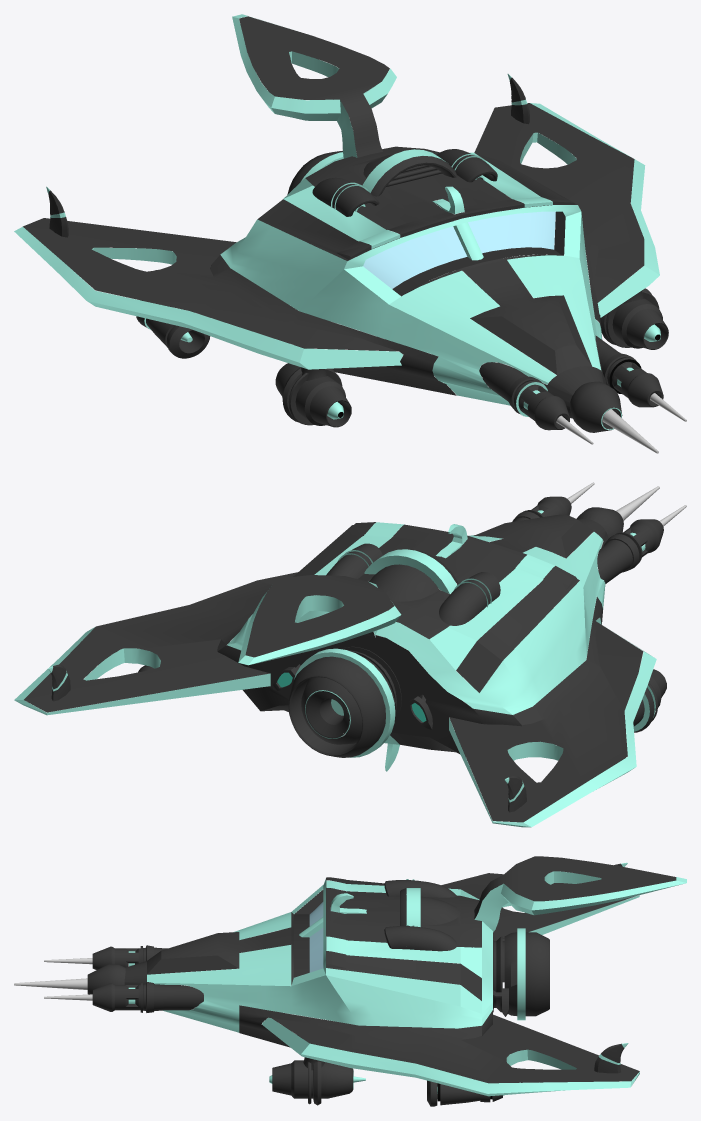
The model's file is rocket.gltf.
The picture shows the model from 3 angles, top to bottom: view 1: azimuth 30°, elevation 25°; view 2: azimuth 150°, elevation 25°; view 3: azimuth 270°, elevation 25°; orthographic projection. The views are drawn at different scales.
Parts seen in each view (by area): view 1: Cube005_2, Cube005_1, Cube005_6, Cube005_3, Cube005_5; view 2: Cube005_2, Cube005_1, Cube005_3, Cube005_5; view 3: Cube005_2, Cube005_1, Cube005_3, Cube005_5, Cube005_6.
Boxes of the visible parts, <box> form: Cube005_2: <box>23,16,668,432</box>; Cube005_1: <box>14,14,660,430</box>; Cube005_6: <box>363,211,555,288</box>; Cube005_3: <box>392,211,565,296</box>; Cube005_5: <box>556,393,686,453</box>; Cube005_2: <box>24,496,666,822</box>; Cube005_1: <box>14,510,656,827</box>; Cube005_3: <box>306,553,542,737</box>; Cube005_5: <box>567,482,686,526</box>; Cube005_2: <box>87,856,676,1106</box>; Cube005_1: <box>128,862,686,1096</box>; Cube005_3: <box>294,888,334,977</box>; Cube005_5: <box>14,958,92,1000</box>; Cube005_6: <box>309,889,337,972</box>.
Size of the model in its own units: 3.63 by 1.36 by 4.75.
